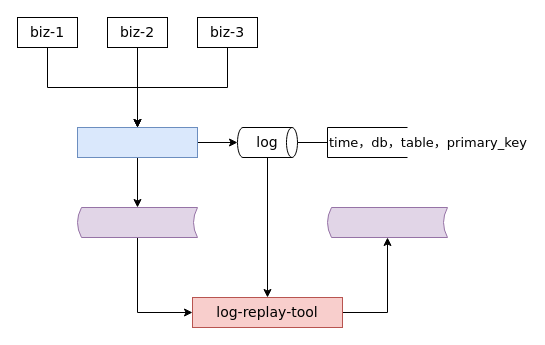
Some shapes in this 545 by 345 pixel diagram are drawn without their labels. Here are the shapes that lost their labels. From the top down, the box of each, then its label:
(76, 126, 198, 158): service-new
(76, 206, 198, 238): db-old
(326, 206, 448, 238): db-new
